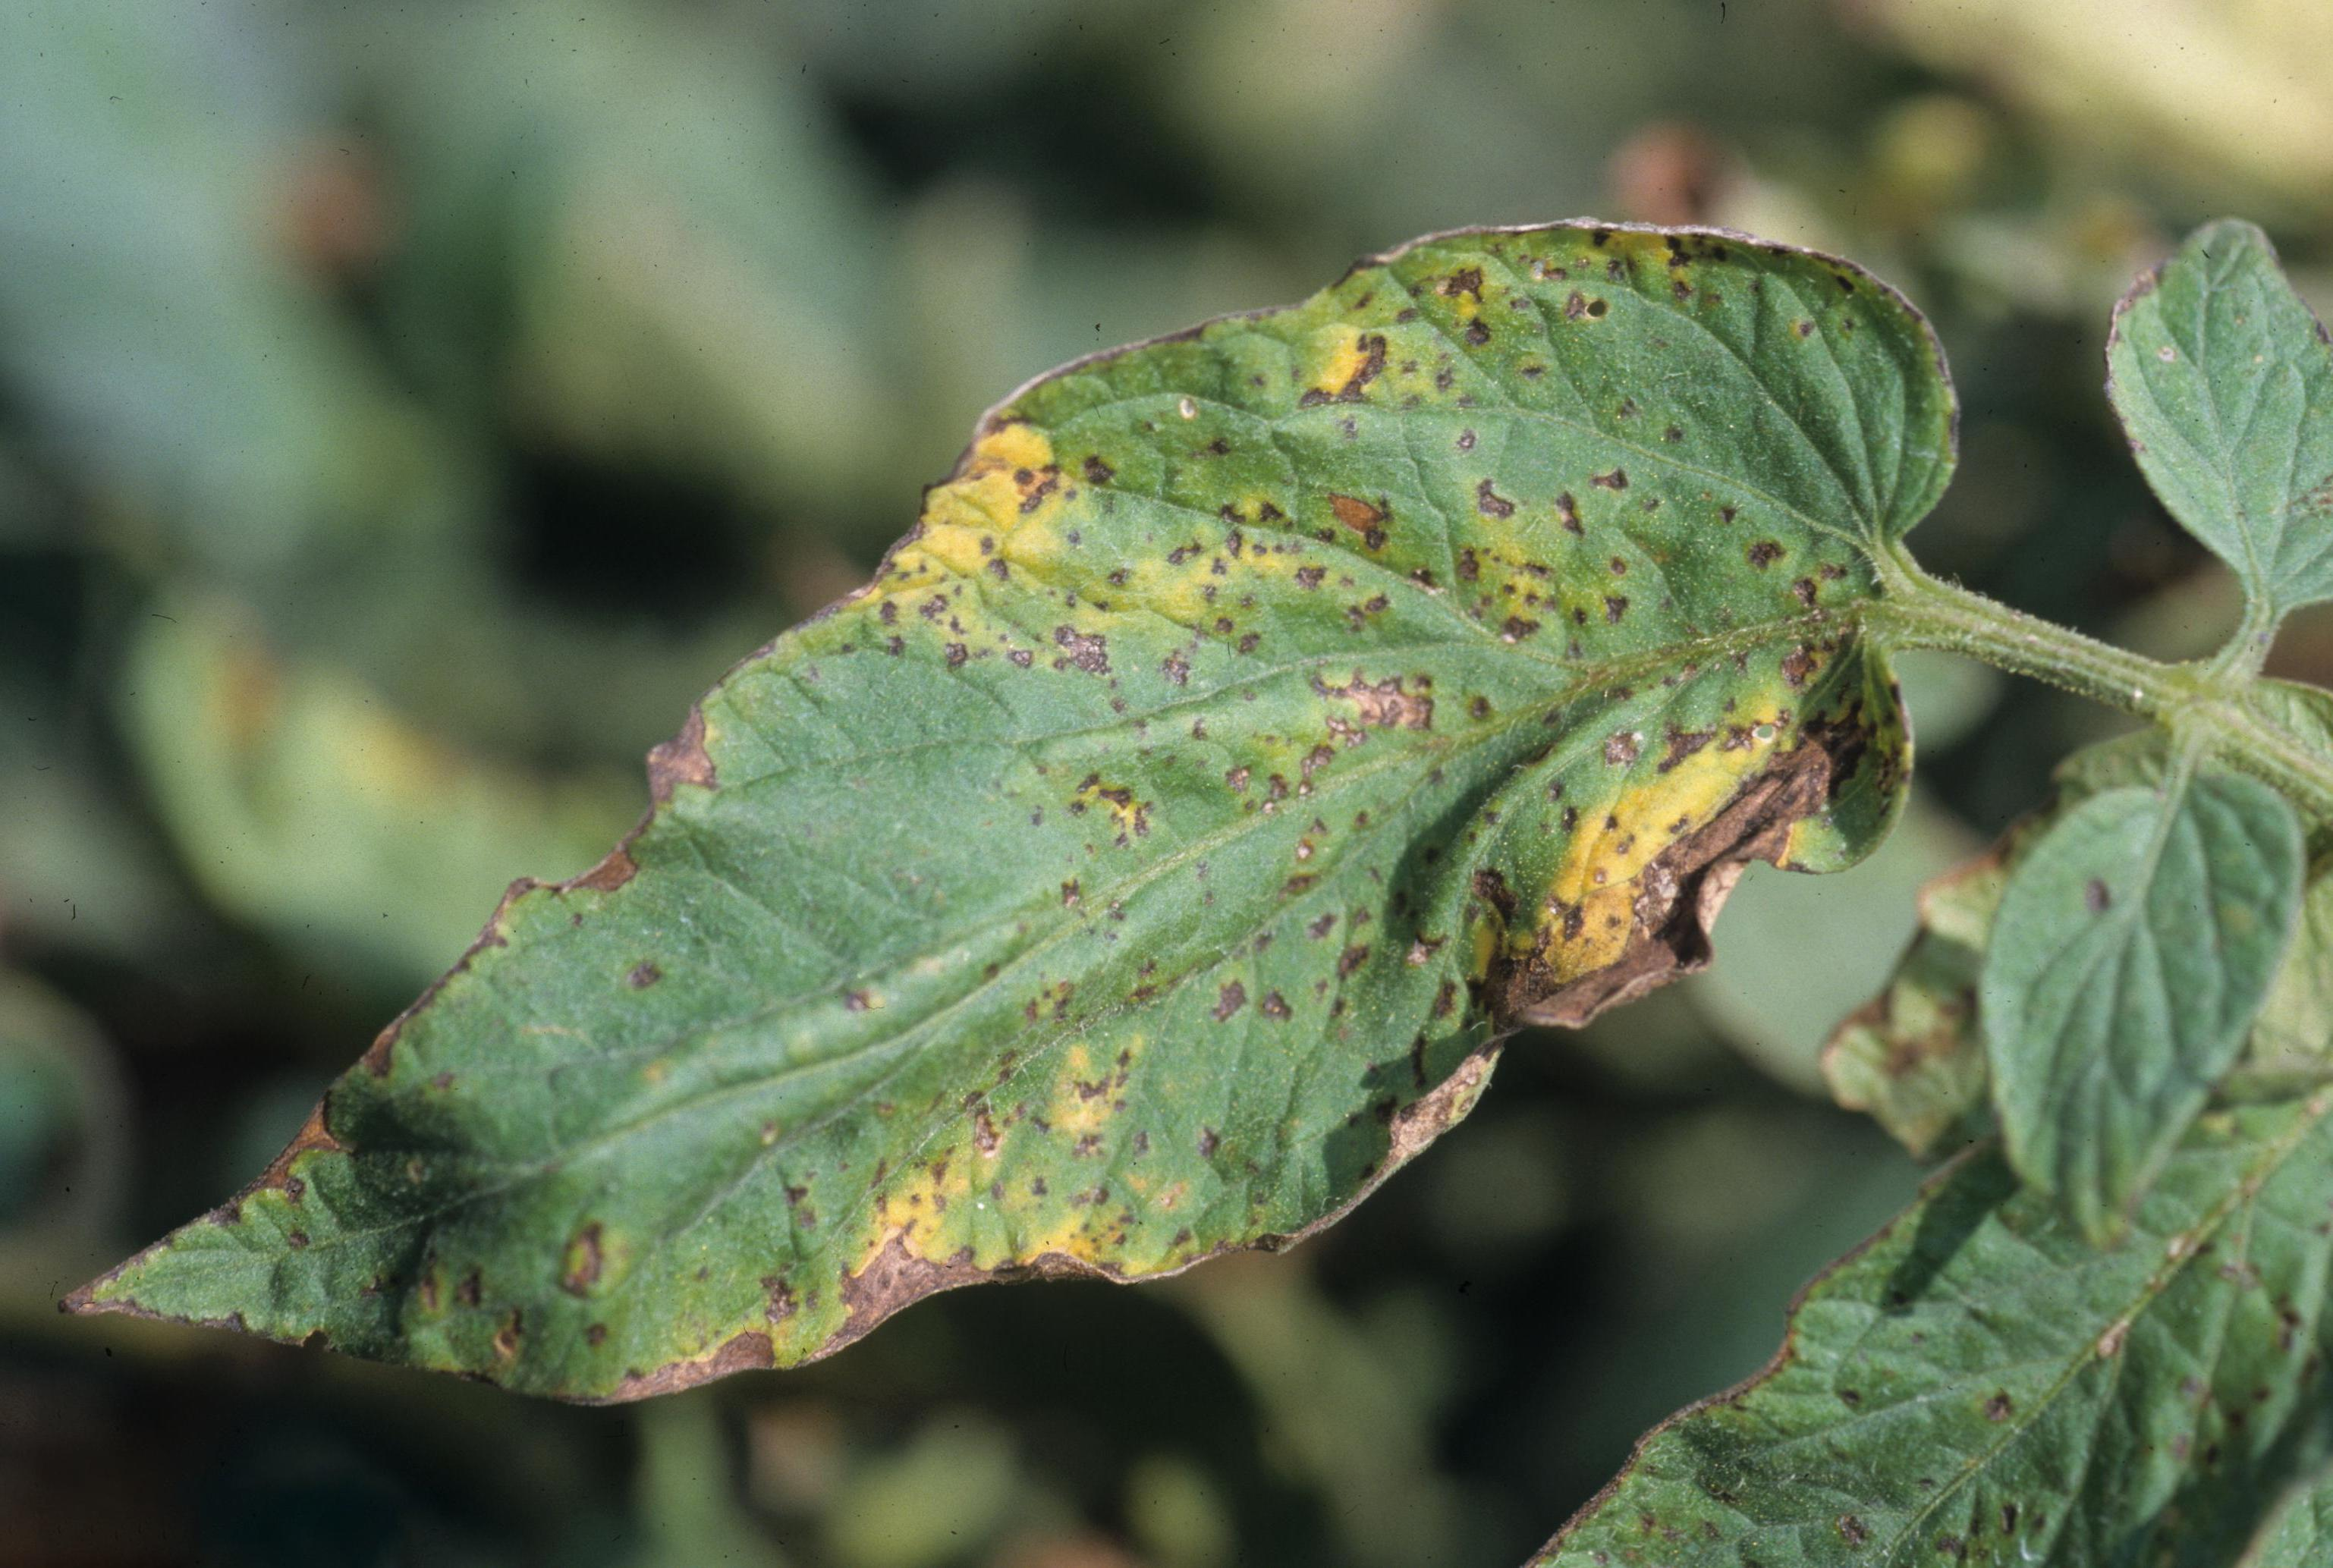Tomato leaf bacterial spot: (93, 200, 2084, 1481)
